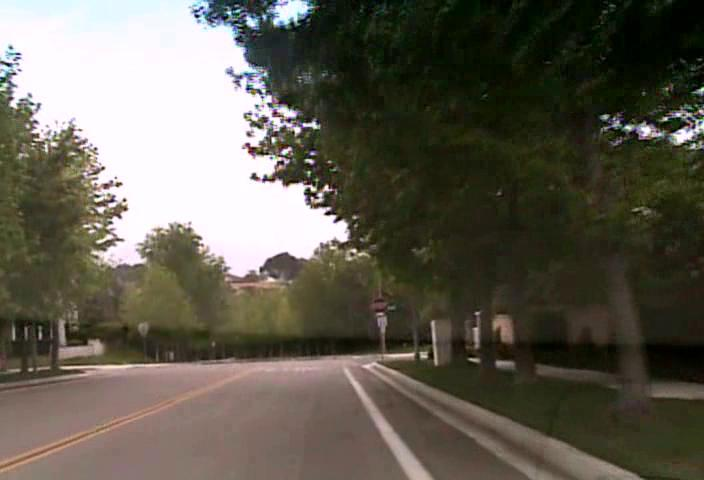stop: (369, 295, 389, 314)
